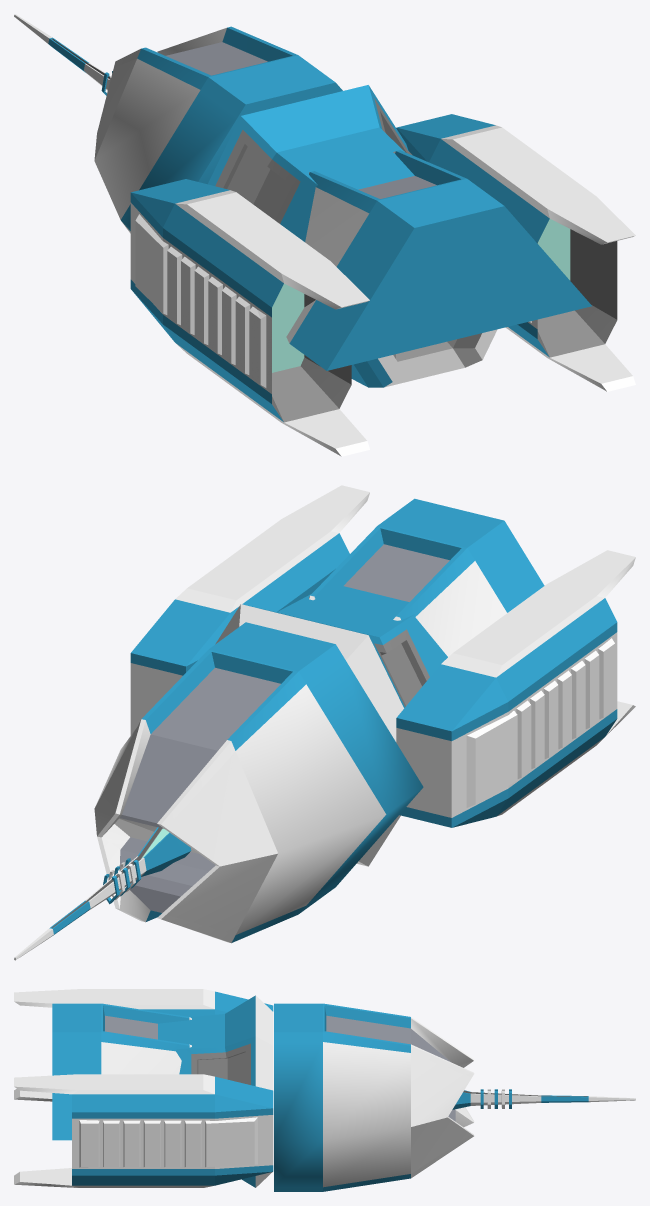
The model's file is musicship.gltf.
The picture shows the model from 3 angles, top to bottom: view 1: azimuth 30°, elevation 25°; view 2: azimuth 150°, elevation 25°; view 3: azimuth 270°, elevation 25°; orthographic projection. The views are drawn at different scales.
Visible parts, largest first — view 1: musicship; view 2: musicship; view 3: musicship.
Boxes of the visible parts, x1,y1,x2,y2 form: musicship: (14,14,635,456); musicship: (14,485,635,960); musicship: (14,989,635,1191).
Size of the model in its own units: 1.33 by 0.8862 by 3.09.
